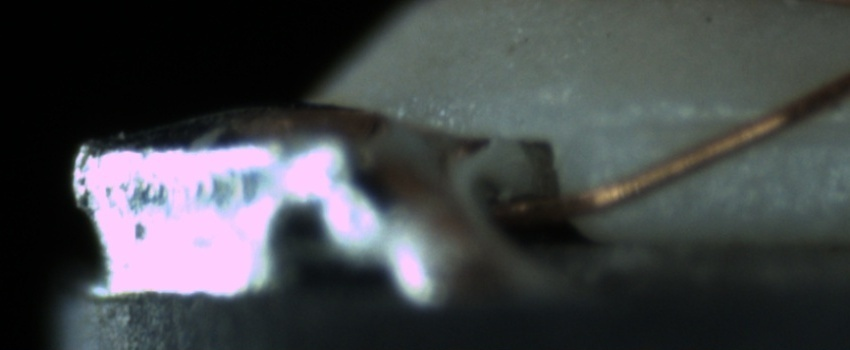DL: (614, 89, 845, 164)
